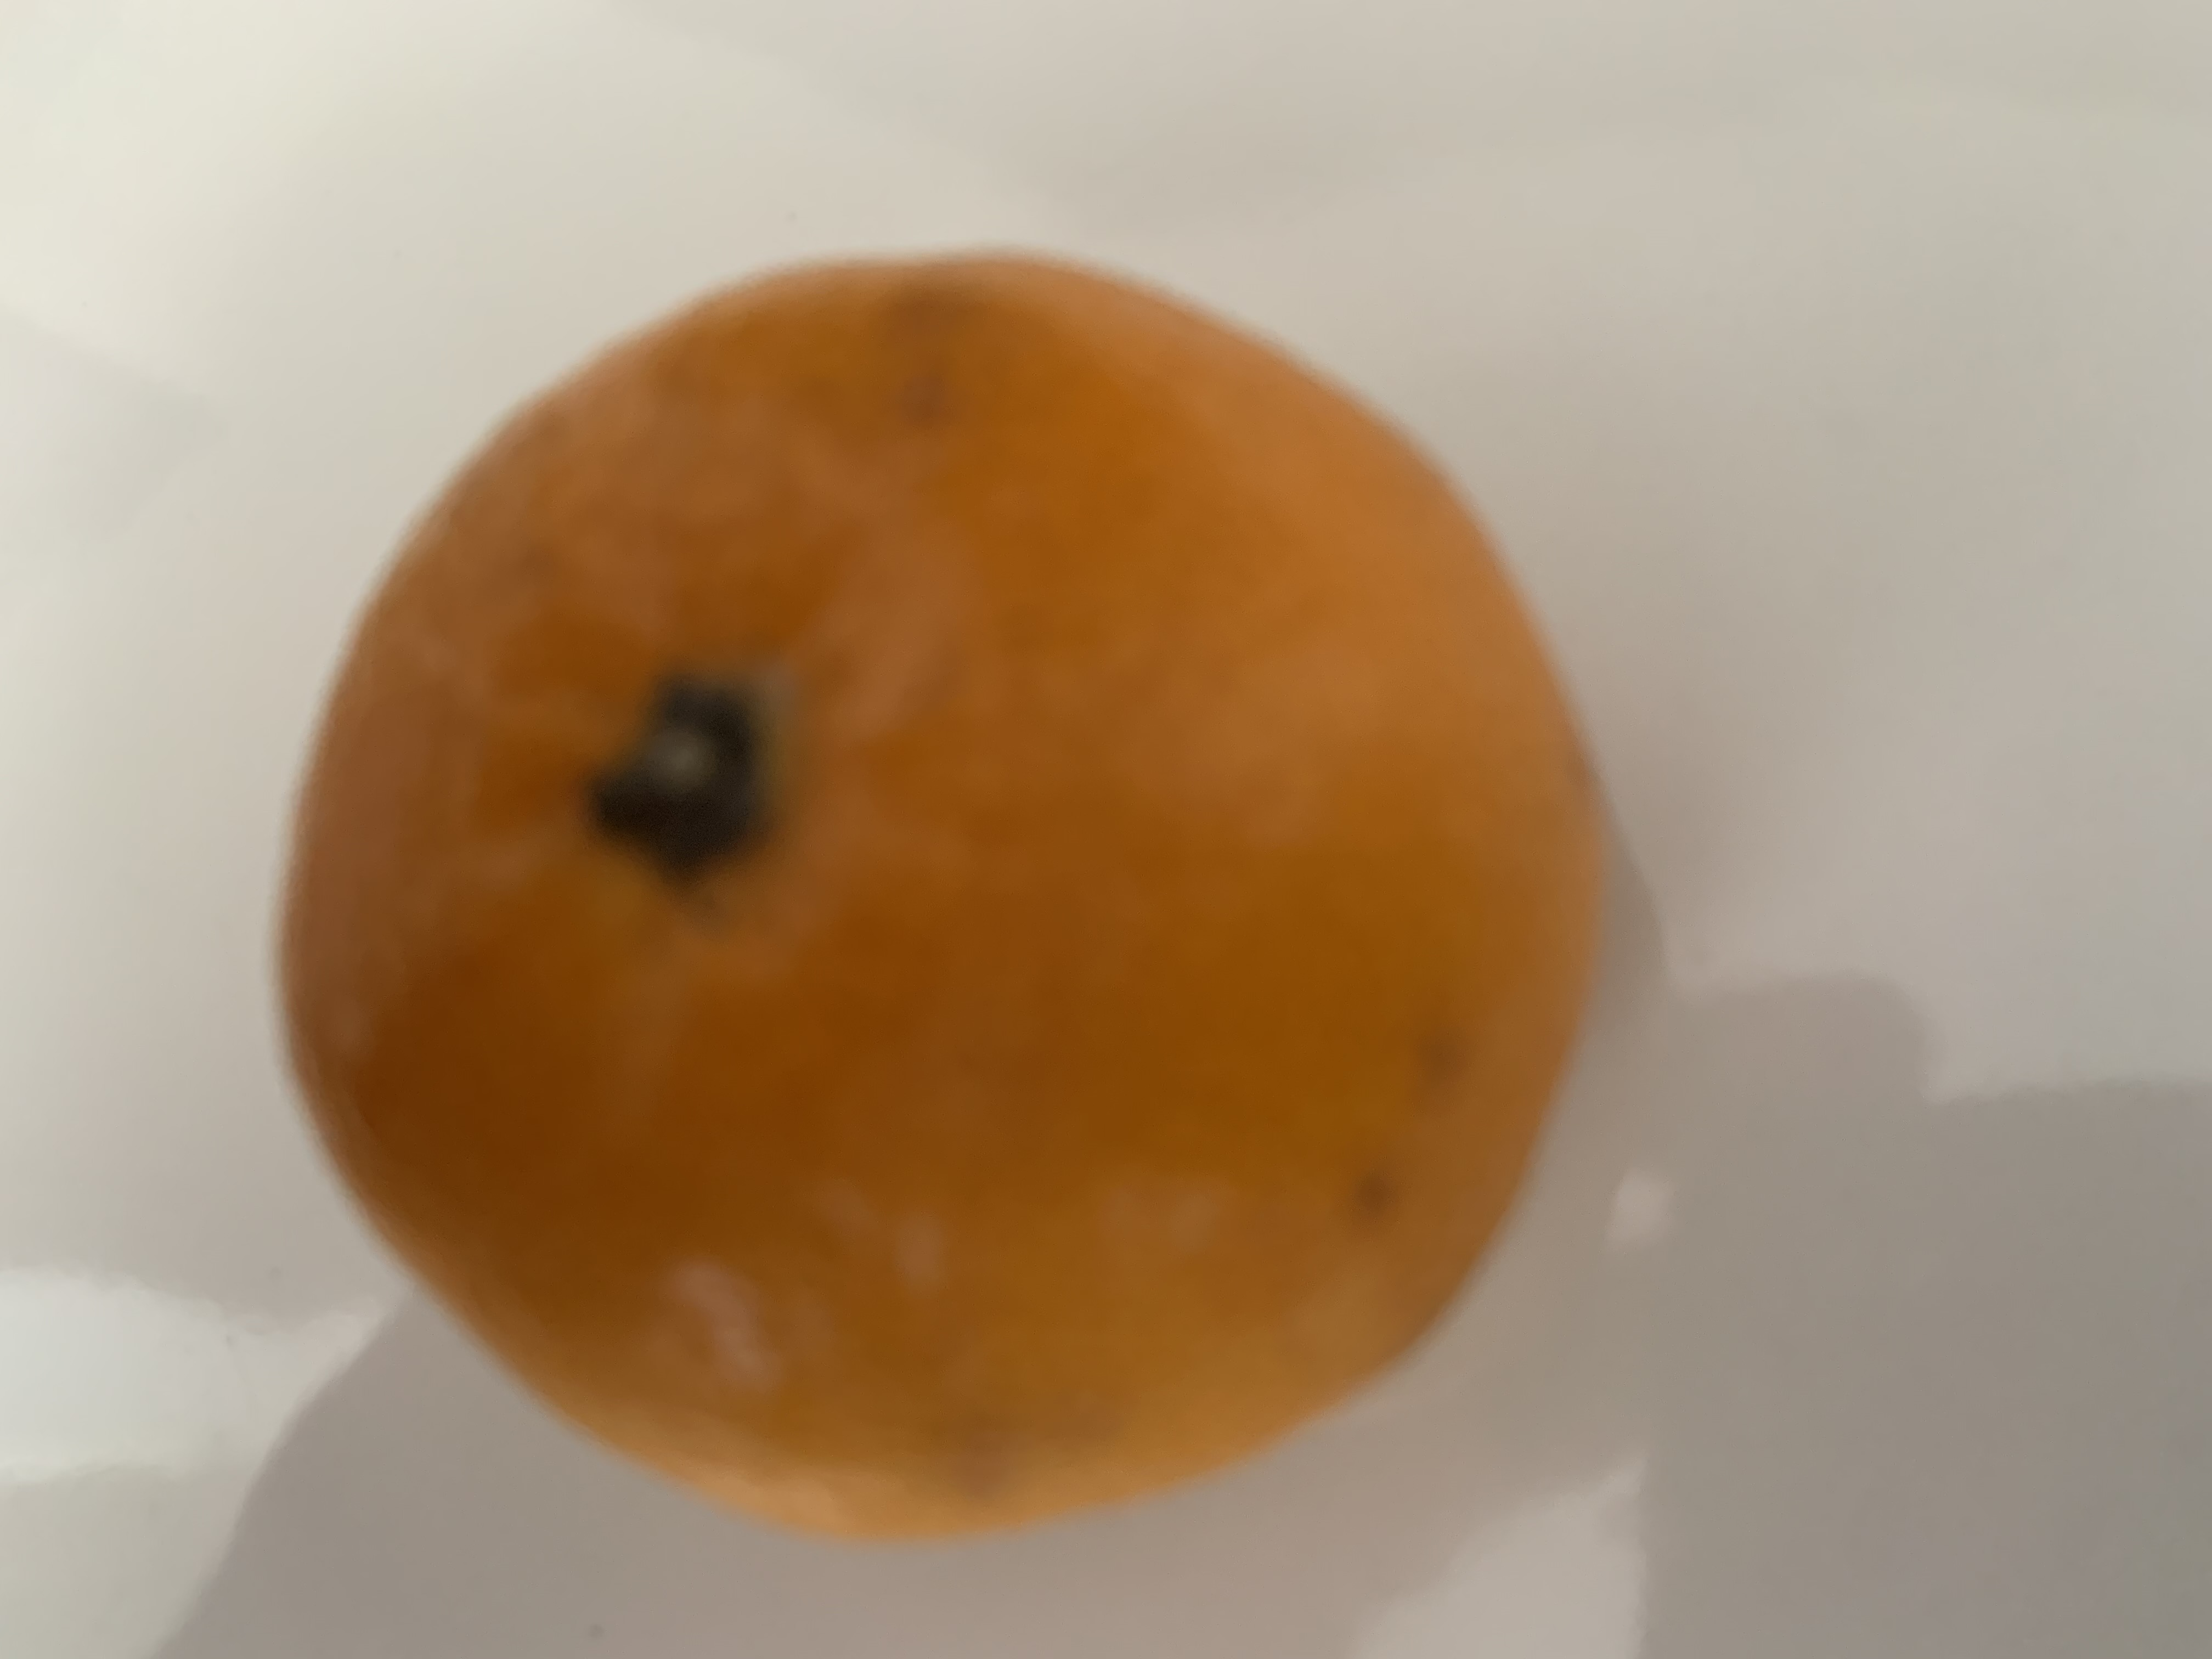orange: (263, 251, 1599, 1474)
